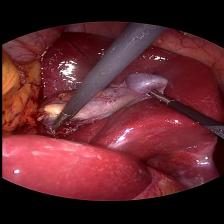Grasper: (144, 89, 173, 105), (47, 120, 67, 133)
